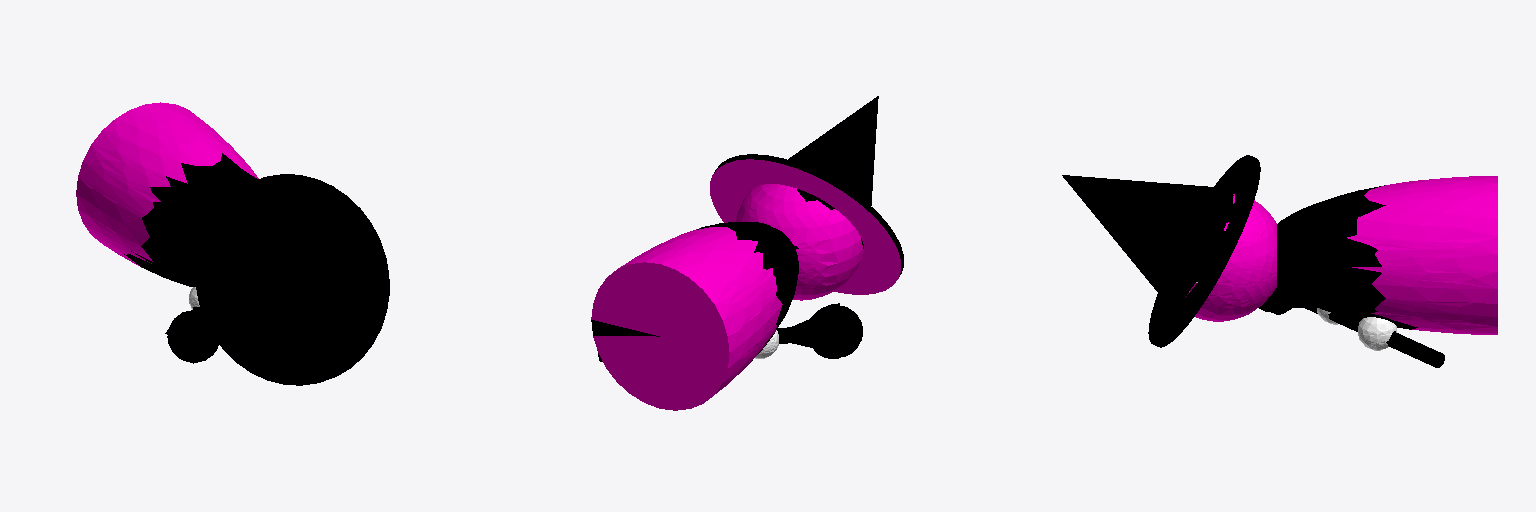
Rendered from PinkPawn.obj.
3 views of the same model, side by side, from view 1: azimuth 30°, elevation 25°; view 2: azimuth 150°, elevation 25°; view 3: azimuth 270°, elevation 25° (orthographic).
Parts seen in each view (by area): view 1: WizardPawn; view 2: WizardPawn; view 3: WizardPawn.
Boxes of the visible parts, x1=… form: WizardPawn: x1=76, y1=102, x2=389, y2=385; WizardPawn: x1=591, y1=96, x2=903, y2=410; WizardPawn: x1=1062, y1=155, x2=1497, y2=367.
Size of the model in its own units: 14.59 by 13.3 by 29.5.